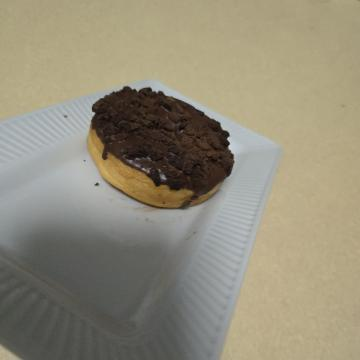doughnut: (66, 112, 236, 290)
